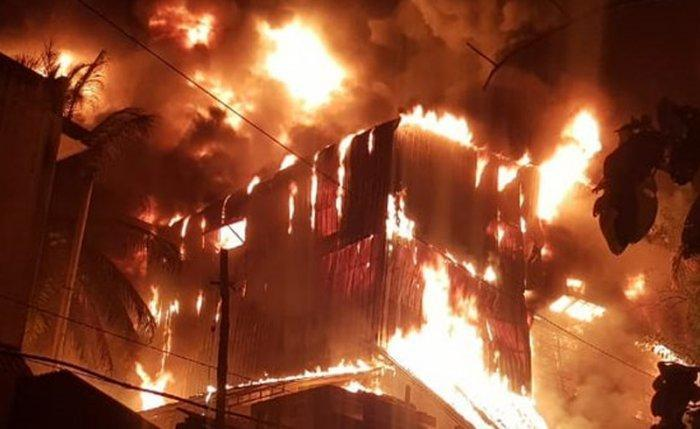fire: (377, 252, 552, 429), (240, 7, 359, 125), (528, 94, 613, 230), (199, 354, 396, 403), (394, 95, 476, 150), (148, 4, 224, 56), (187, 69, 238, 129), (131, 357, 179, 415), (382, 190, 420, 245), (495, 146, 532, 197), (143, 281, 181, 326), (37, 43, 85, 76), (336, 129, 352, 221), (621, 269, 648, 303), (217, 220, 247, 248), (308, 168, 320, 233), (470, 153, 489, 190), (287, 181, 297, 237), (176, 213, 195, 242), (243, 174, 265, 197), (191, 287, 206, 318), (492, 222, 507, 249), (166, 208, 184, 229), (279, 153, 299, 171)
